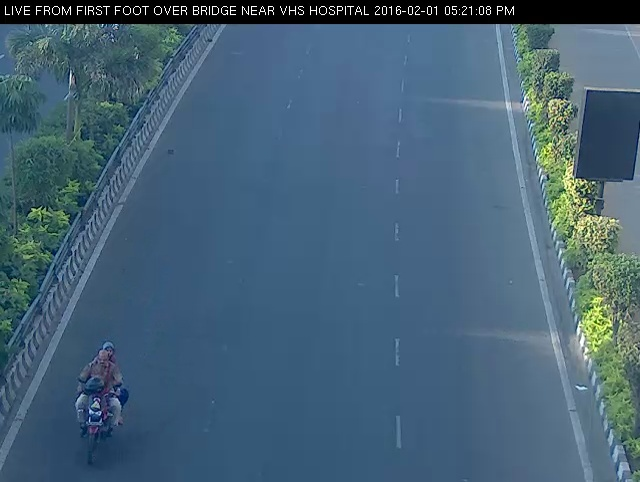Person: (60, 339, 137, 467)
